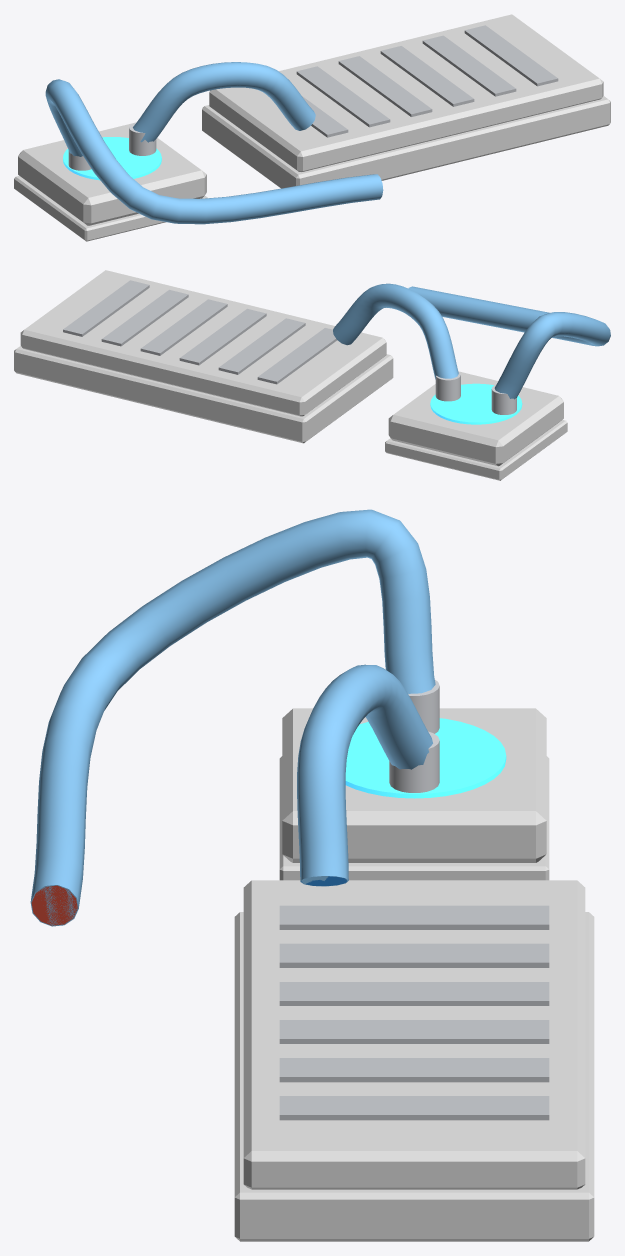
Rendered from hw_cool_coldplate_gpu.glb.
3 views of the same model, one above another, from view 1: azimuth 30°, elevation 25°; view 2: azimuth 150°, elevation 25°; view 3: azimuth 270°, elevation 25° (orthographic). The views are drawn at different scales.
Visible parts, largest first — view 1: Body, Flow_1, Flow_0; view 2: Body, Flow_1, Flow_0; view 3: Body, Flow_1, Flow_0.
Boxes of the visible parts, x1,y1,x2,y2 form: Body: (14,14,610,241); Flow_1: (45,79,383,224); Flow_0: (133,62,315,142); Body: (14,270,567,480); Flow_1: (408,286,610,399); Flow_0: (333,283,458,379); Body: (31,679,594,1241); Flow_1: (30,509,435,926); Flow_0: (297,664,432,886).
Bounding box in the file's own units: 0.2526 × 0.0653 × 0.1254.
